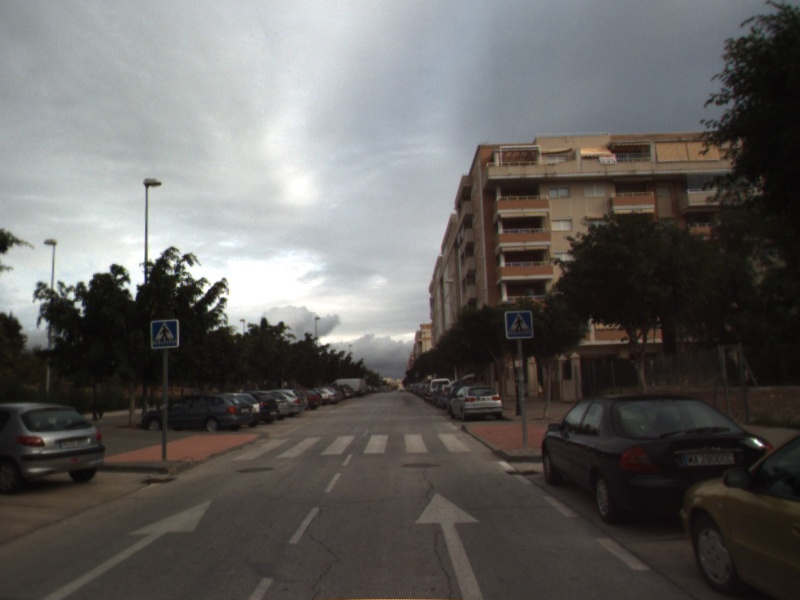STRAIGHT: (38, 497, 215, 600), (412, 490, 487, 600)
